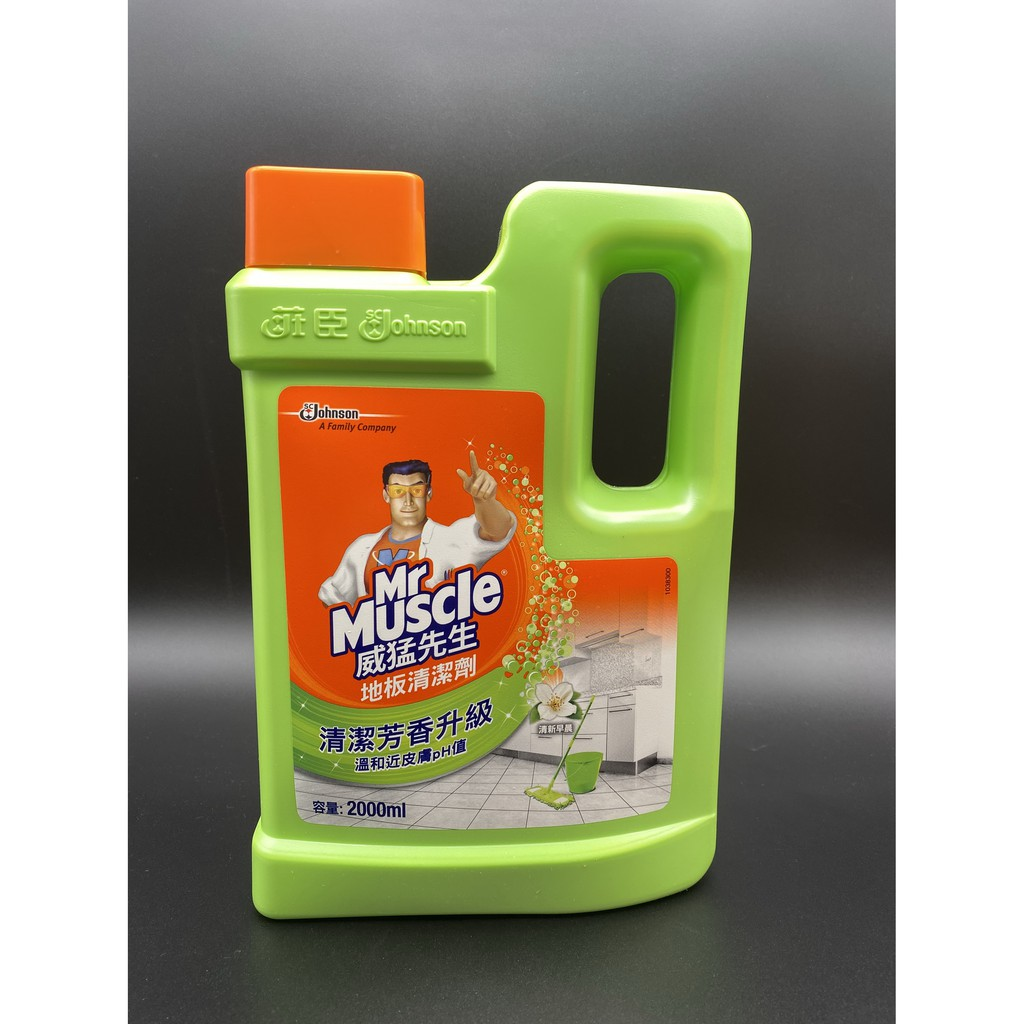cleaner: (221, 160, 758, 923)
